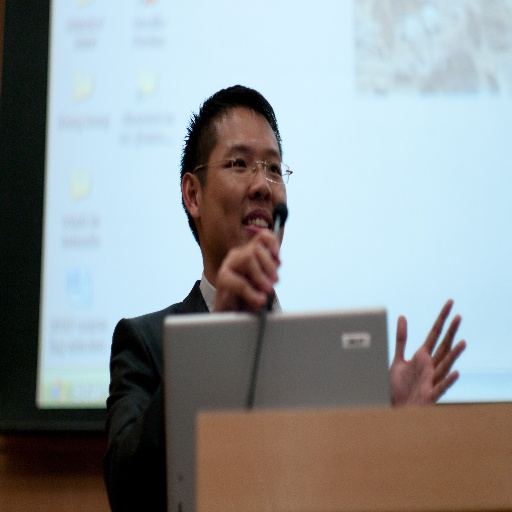hand: (380, 306, 464, 402), (210, 227, 280, 313)
